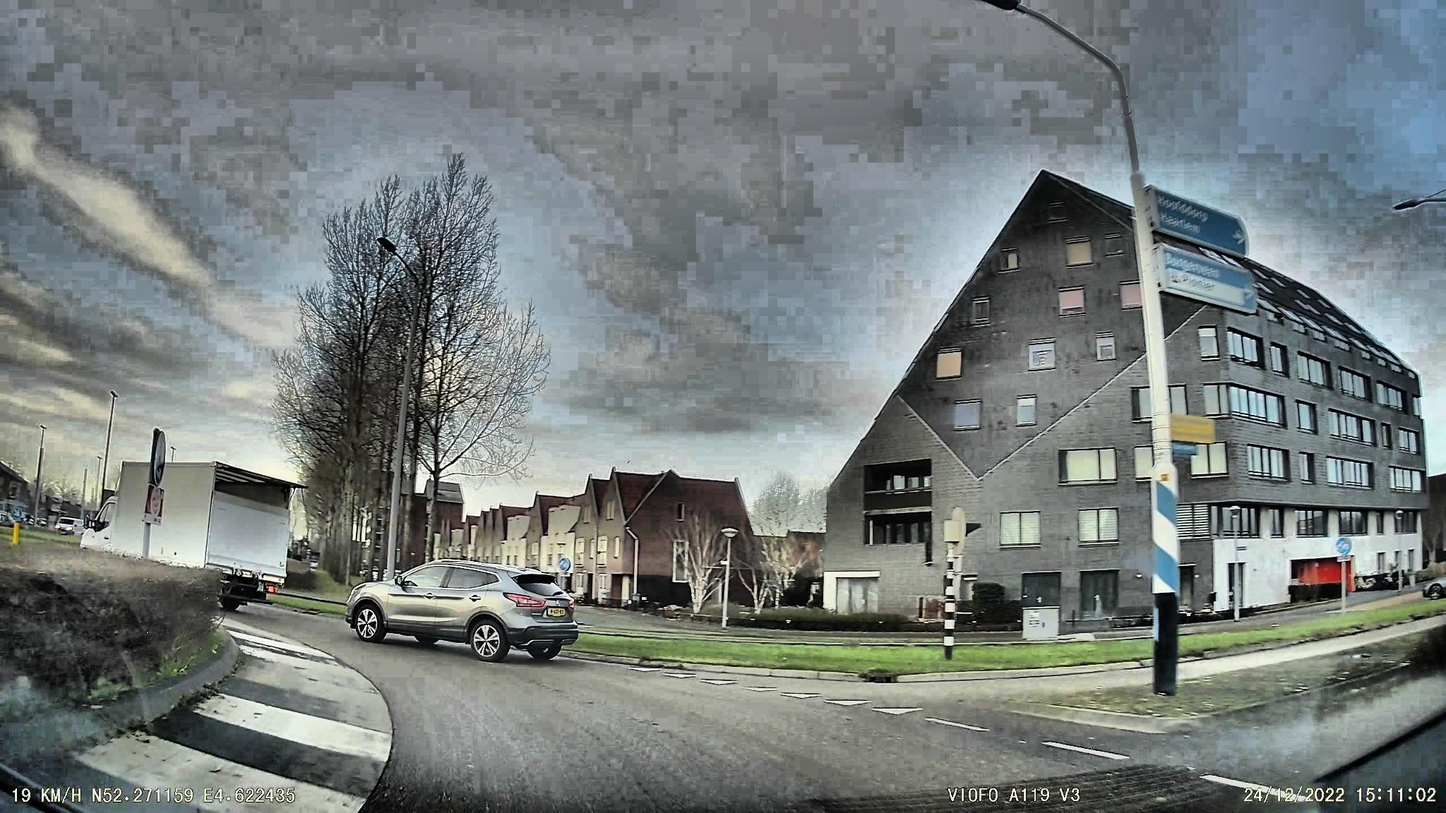Roads: (230, 614, 1446, 813)
